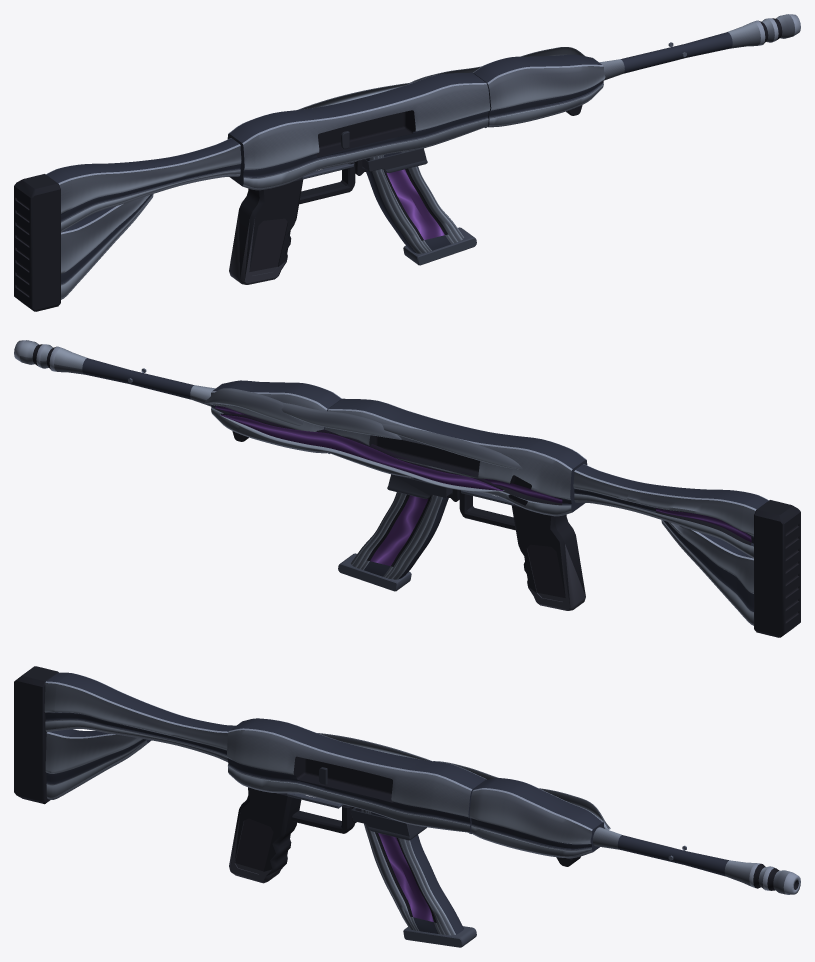
Rendered from Vandal_Moltframe_Shell_v02.fbx.
The picture shows the model from 3 angles, top to bottom: view 1: azimuth 30°, elevation 25°; view 2: azimuth 150°, elevation 25°; view 3: azimuth 330°, elevation 25°; orthographic projection.
Visible parts, largest first — view 1: Moltframe_Receiver_00, Moltframe_StockHardware_02, Moltframe_Receiver_02, Moltframe_Forend_00, Moltframe_StockSpine_00, Moltframe_GripHardware_02, Moltframe_StockSpine_02, Moltframe_StockBrace_00, Moltframe_Forend_02, Moltframe_Magazine_00, Moltframe_Receiver_03, Moltframe_Barrel_02 (+12 smaller); view 2: Moltframe_StockHardware_02, Moltframe_Receiver_00, Moltframe_StockSpine_00, Moltframe_GripHardware_02, Moltframe_Receiver_02, Moltframe_Inset_00, Moltframe_Receiver_03, Moltframe_StockBrace_00, Moltframe_StockSpine_02, Moltframe_Magazine_00, Moltframe_Aft_00, Moltframe_Barrel_02 (+17 smaller); view 3: Moltframe_Receiver_00, Moltframe_Receiver_02, Moltframe_Forend_00, Moltframe_StockSpine_00, Moltframe_StockHardware_02, Moltframe_GripHardware_02, Moltframe_StockBrace_00, Moltframe_StockSpine_02, Moltframe_Forend_02, Moltframe_Magazine_00, Moltframe_Receiver_03, Moltframe_Barrel_02 (+15 smaller).
Part boxes in pixels (x1,y1,x2,y2): Moltframe_Receiver_00: (243,84,490,188); Moltframe_StockHardware_02: (14,174,60,311); Moltframe_Receiver_02: (227,72,488,186); Moltframe_Forend_00: (488,66,605,125); Moltframe_StockSpine_00: (59,145,241,230); Moltframe_GripHardware_02: (239,162,355,280); Moltframe_StockSpine_02: (46,138,240,221); Moltframe_StockBrace_00: (61,194,153,297); Moltframe_Forend_02: (473,54,603,126); Moltframe_Magazine_00: (369,151,463,253); Moltframe_Receiver_03: (316,110,485,156); Moltframe_Barrel_02: (621,32,732,73); Moltframe_StockHardware_02: (754,500,800,637); Moltframe_Receiver_00: (324,410,571,514); Moltframe_StockSpine_00: (573,471,755,556); Moltframe_GripHardware_02: (459,490,585,606); Moltframe_Receiver_02: (329,398,587,512); Moltframe_Inset_00: (220,414,503,491); Moltframe_Receiver_03: (329,435,562,505); Moltframe_StockBrace_00: (661,520,753,623); Moltframe_StockSpine_02: (574,464,768,546); Moltframe_Magazine_00: (351,477,442,579); Moltframe_Aft_00: (382,423,522,469); Moltframe_Barrel_02: (82,358,193,399); Moltframe_Receiver_00: (227,730,471,831); Moltframe_Receiver_02: (227,718,487,833); Moltframe_Forend_00: (469,789,591,856); Moltframe_StockSpine_00: (44,683,227,759); Moltframe_StockHardware_02: (14,666,58,804); Moltframe_GripHardware_02: (230,787,355,875); Moltframe_StockBrace_00: (45,733,146,797); Moltframe_StockSpine_02: (45,672,235,755); Moltframe_Forend_02: (471,778,604,851); Moltframe_Magazine_00: (361,809,455,935); Moltframe_Receiver_03: (293,756,393,802); Moltframe_Barrel_02: (617,835,728,876).
Bounding box in the file's own units: 3.9 × 0.8411 × 0.2445.
13 materials, 2 textured.
